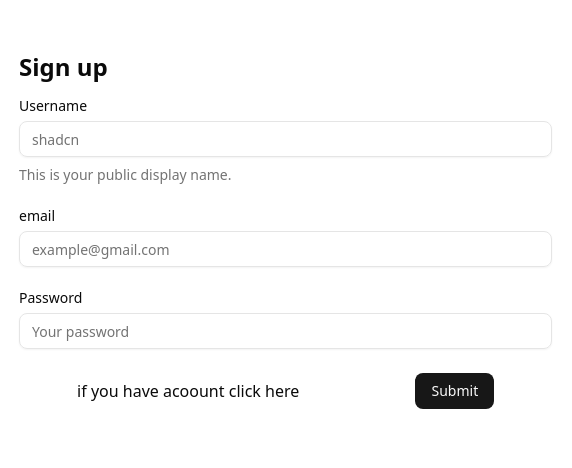
it: Signup Page › should show validation errors on empty submit
The image size is (572, 468).
Click the button with test id "signup-submit": (456, 391) [416,373,495,409]
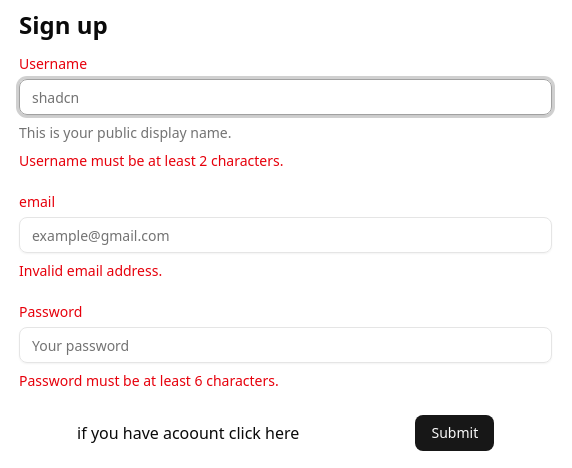
Expected: the text "Username must be at least 2 characters" is shown, [19,151,284,170]
Expected: the text "Invalid email address" is shown, [19,261,162,280]
Expected: the text "Password must be at least 6 characters" is shown, [19,371,279,390]
